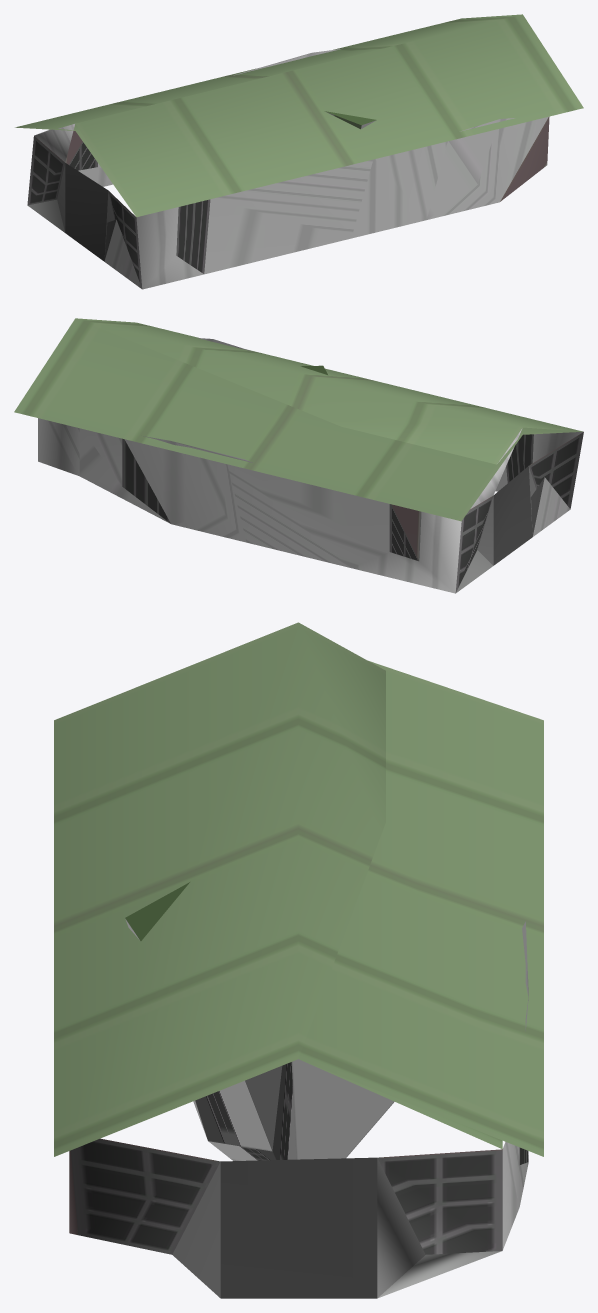
Rendered from MHouse.fbx.
3 renders of one model, top to bottom at view 1: azimuth 30°, elevation 25°; view 2: azimuth 150°, elevation 25°; view 3: azimuth 270°, elevation 25°, orthographic. The views are drawn at different scales.
Parts seen in each view (by area): view 1: MHouse_cell.009, MHouse_cell.004, MHouse_cell.006, MHouse_cell.018; view 2: MHouse_cell.009, MHouse_cell.004, MHouse_cell.006; view 3: MHouse_cell.009, MHouse_cell.004, MHouse_cell.018.
Boxes of the visible parts, x1,y1,x2,y2 form: MHouse_cell.009: [27, 14, 583, 289]; MHouse_cell.004: [15, 14, 522, 214]; MHouse_cell.006: [104, 219, 141, 288]; MHouse_cell.018: [324, 111, 376, 129]; MHouse_cell.009: [38, 318, 583, 593]; MHouse_cell.004: [14, 318, 582, 521]; MHouse_cell.006: [531, 477, 570, 536]; MHouse_cell.009: [54, 622, 528, 1298]; MHouse_cell.004: [298, 660, 543, 1156]; MHouse_cell.018: [125, 882, 394, 1160].
Size of the model in its own units: 7.17 by 2.14 by 3.4.
